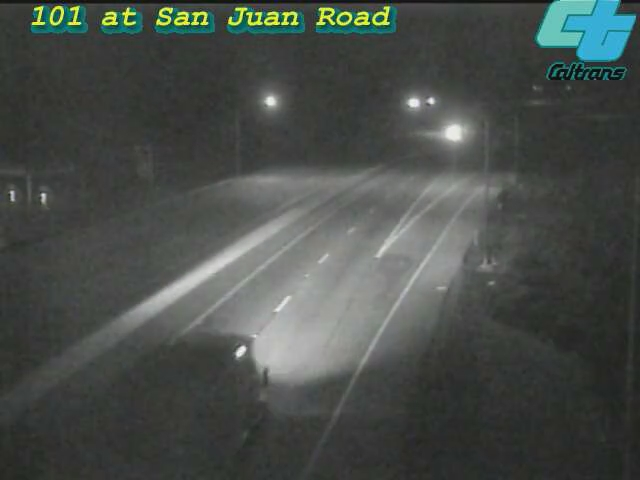vehicle: (120, 368, 230, 478), (430, 106, 480, 156)
